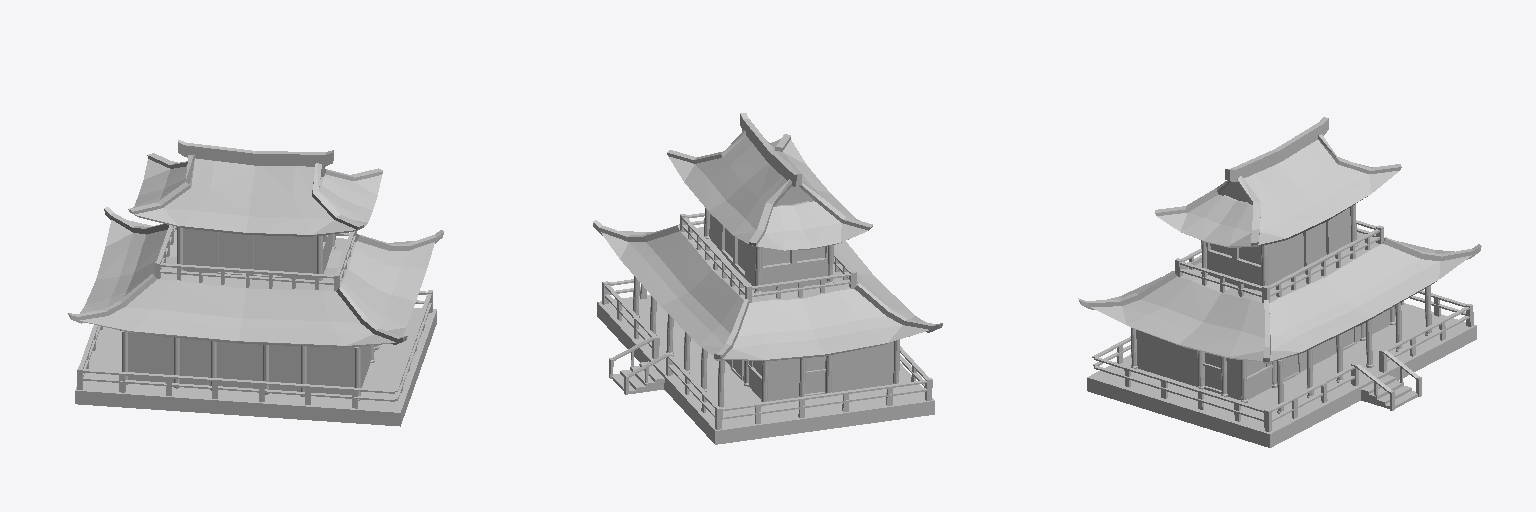
File: temple1.obj
3 renders of one model, left to right at view 1: azimuth 30°, elevation 25°; view 2: azimuth 150°, elevation 25°; view 3: azimuth 270°, elevation 25°, orthographic.
Parts seen in each view (by area): view 1: Export; view 2: Export; view 3: Export.
Part boxes in pixels (x1,y1,x2,y2): Export: (68,140,443,426); Export: (593,113,942,444); Export: (1078,117,1481,447).
Bounding box in the file's own units: 26.1 × 15.43 × 25.24.